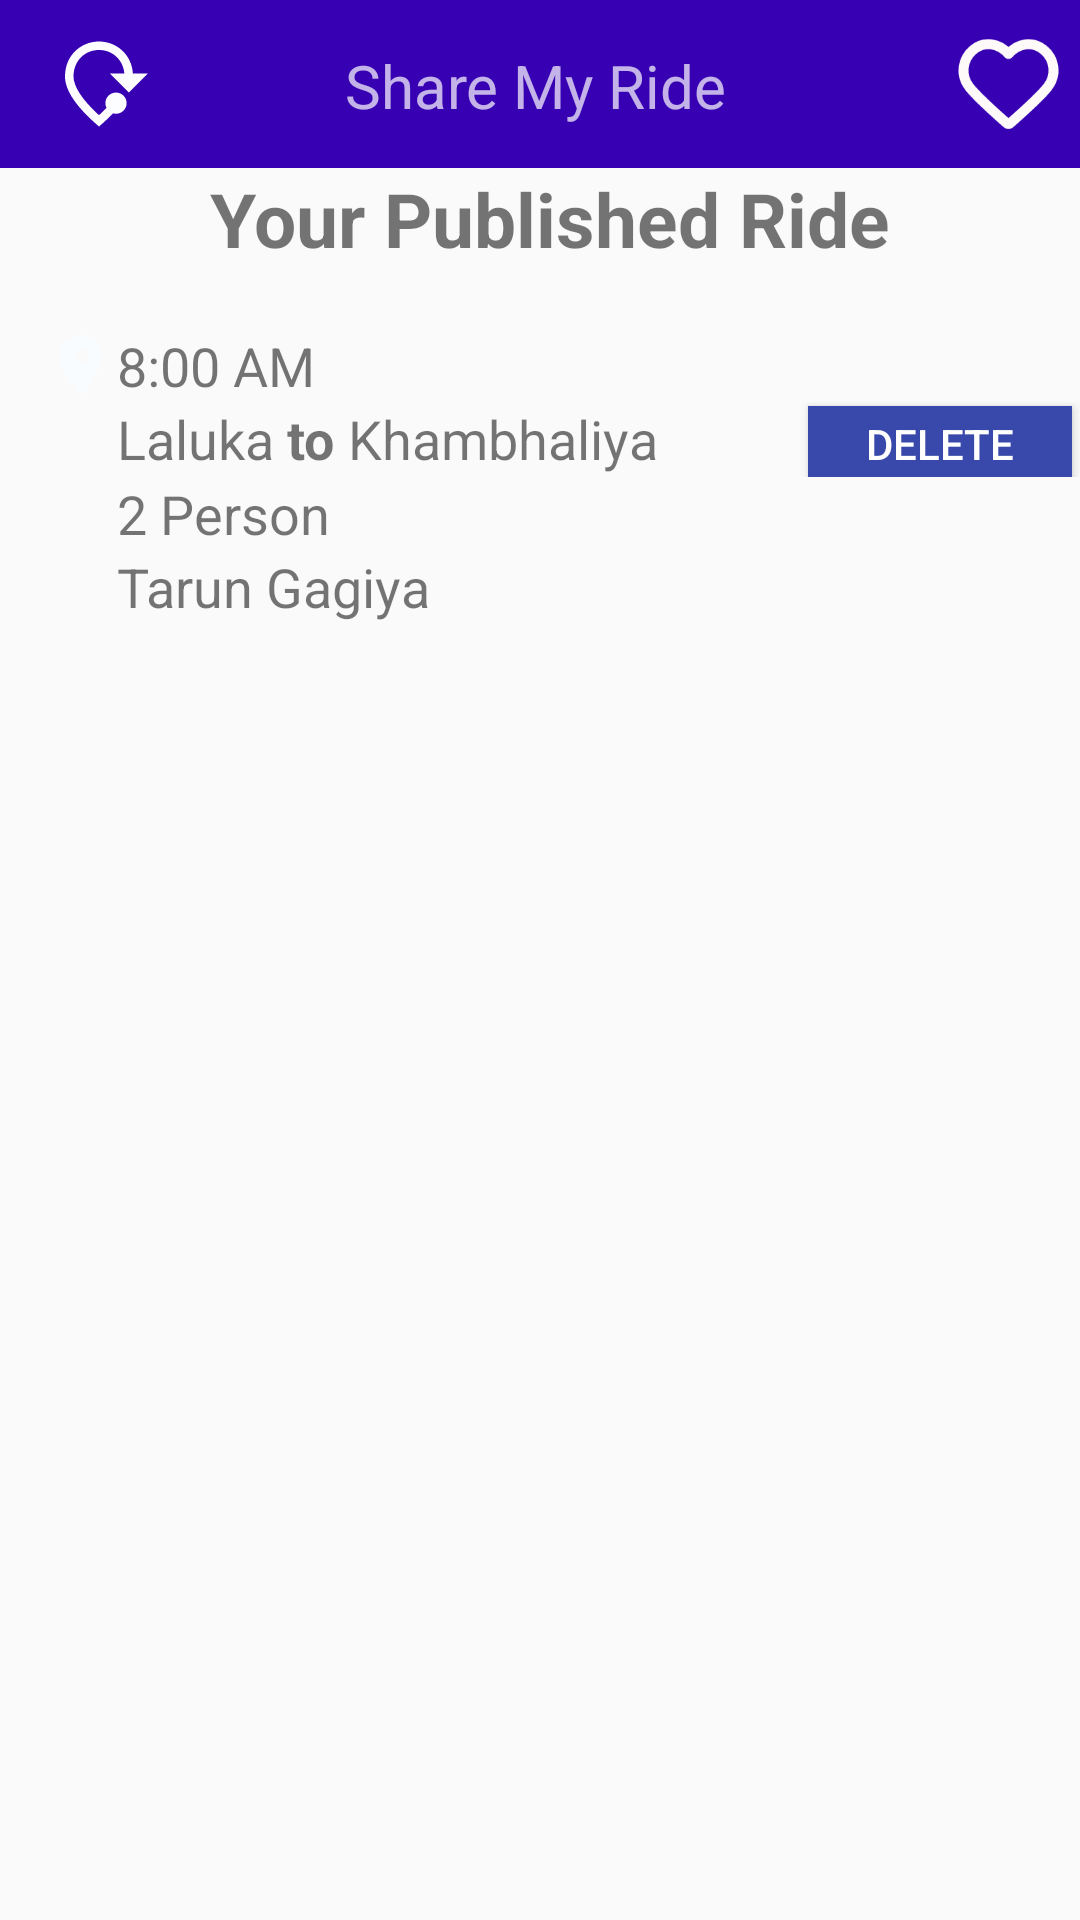

Named icons in this screenshot (1080×1920) and their bounding boxes, (x1, y1, x2, y2):
heart toolbar: (958, 39, 1059, 129)
